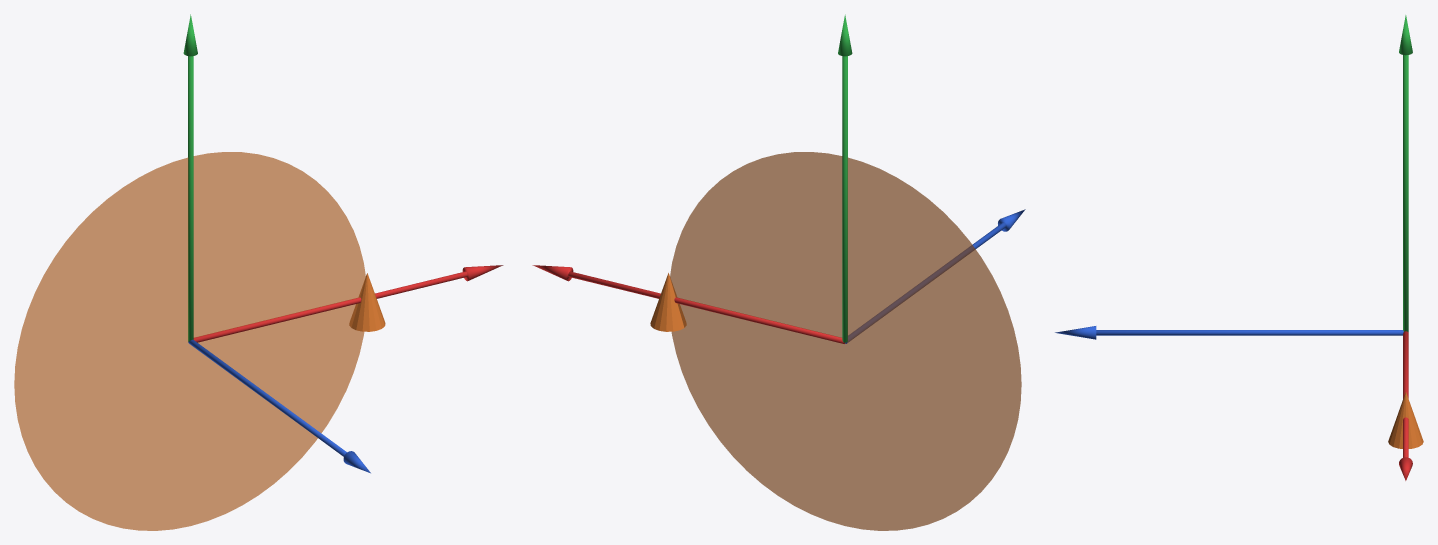
Rendered from basis-bivector.obj.
3 views of the same model, side by side, from view 1: azimuth 30°, elevation 25°; view 2: azimuth 150°, elevation 25°; view 3: azimuth 270°, elevation 25° (orthographic). The views are drawn at different scales.
Visible parts, largest first — view 1: grp367, grp245, grp184, grp306, grp497; view 2: grp367, grp245, grp184, grp306, grp497; view 3: grp306, grp245, grp497, grp184.
Boxes of the visible parts, x1,y1,x2,y2 form: grp367: [14, 152, 365, 530]; grp245: [183, 14, 197, 341]; grp184: [193, 265, 503, 342]; grp306: [188, 339, 370, 473]; grp497: [349, 273, 385, 331]; grp367: [670, 152, 1021, 530]; grp245: [838, 14, 852, 342]; grp184: [532, 265, 844, 343]; grp306: [845, 209, 1025, 343]; grp497: [650, 273, 686, 331]; grp306: [1055, 326, 1403, 339]; grp245: [1399, 15, 1412, 331]; grp497: [1388, 392, 1423, 448]; grp184: [1399, 331, 1412, 480].
Bounding box in the file's own units: 1.56 × 1.56 × 1.05.
